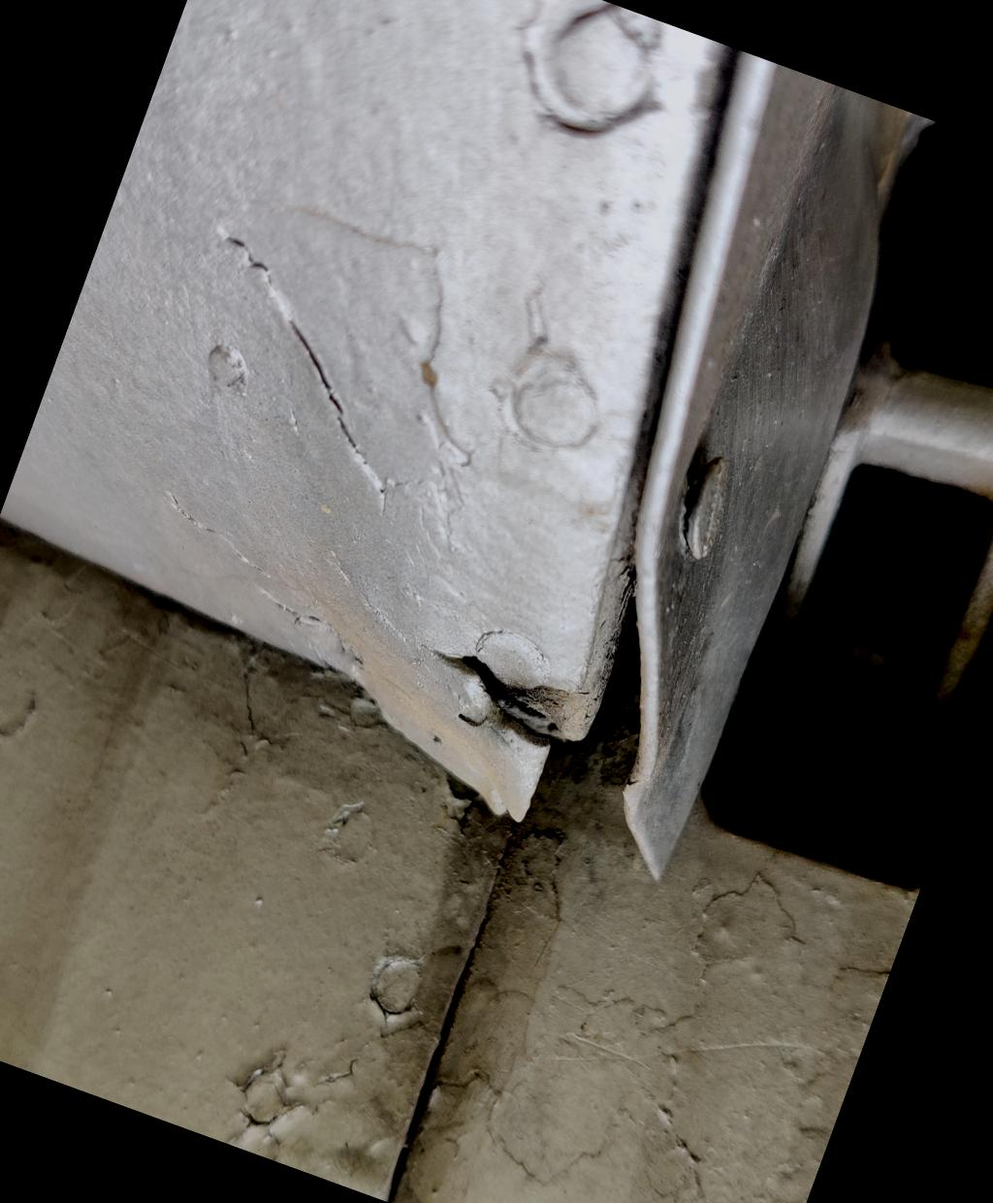crack: (381, 608, 610, 797)
